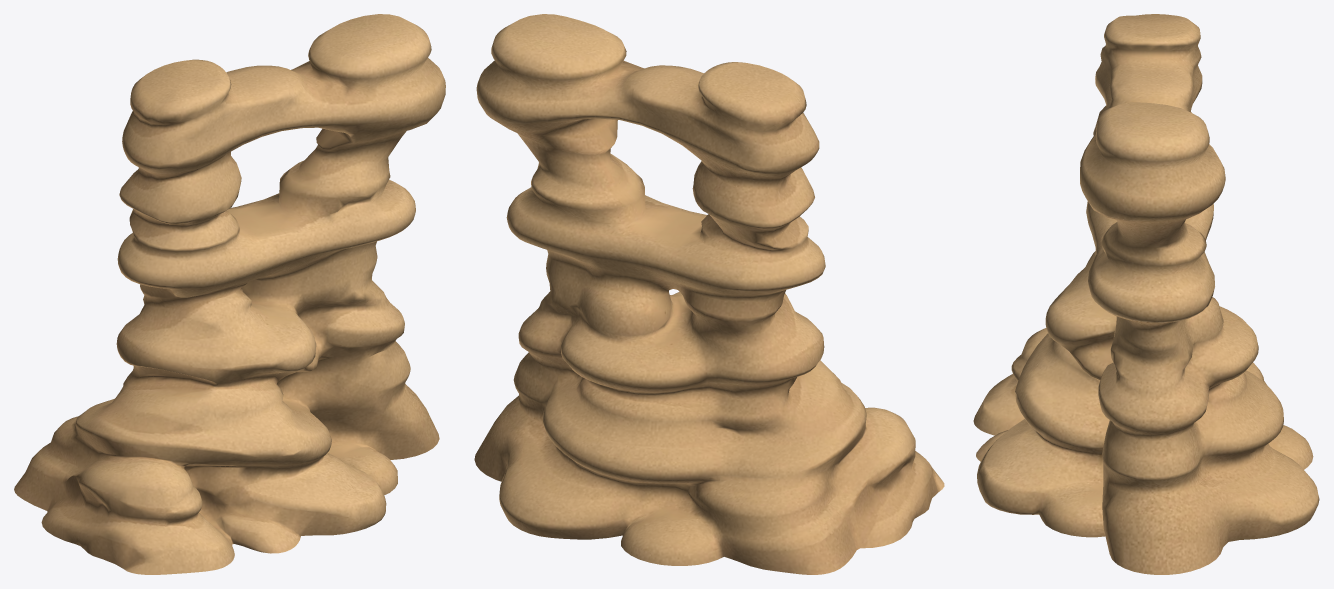
File: tripo_convert_5973074c-c66c-427c-b233-25e10b8119a2.fbx
The picture shows the model from 3 angles, left to right: view 1: azimuth 30°, elevation 25°; view 2: azimuth 150°, elevation 25°; view 3: azimuth 270°, elevation 25°; orthographic projection. The views are drawn at different scales.
Parts seen in each view (by area): view 1: tripo_node_5973074c; view 2: tripo_node_5973074c; view 3: tripo_node_5973074c.
Part boxes in pixels (x1,y1,x2,y2): tripo_node_5973074c: (14,14,445,574); tripo_node_5973074c: (474,14,944,574); tripo_node_5973074c: (973,14,1319,574).
Size of the model in its own units: 0.9907 by 0.9995 by 0.7319.
Materials: 1 (1 with a texture image).
